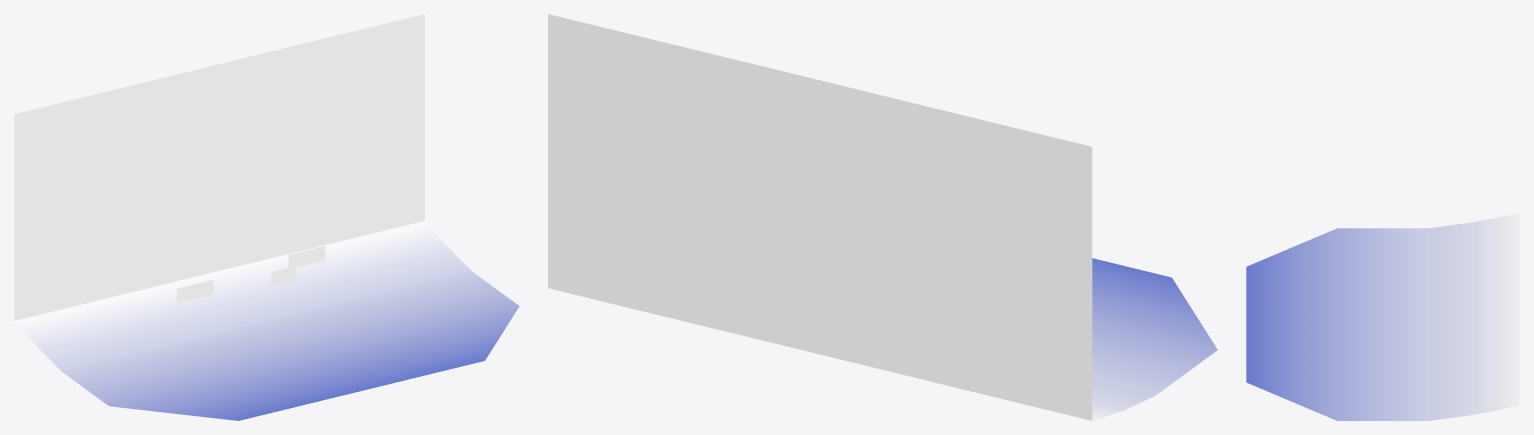
3 renders of one model, left to right at view 1: azimuth 30°, elevation 25°; view 2: azimuth 150°, elevation 25°; view 3: azimuth 270°, elevation 25°, orthographic. The views are drawn at different scales.
Parts seen in each view (by area): view 1: object0; view 2: object0; view 3: object0.
Part boxes in pixels (x1,y1,x2,y2): object0: (14, 14, 519, 420); object0: (548, 14, 1217, 420); object0: (1246, 213, 1519, 420).
Bounding box in the file's own units: 34560 × 17920 × 20736.
